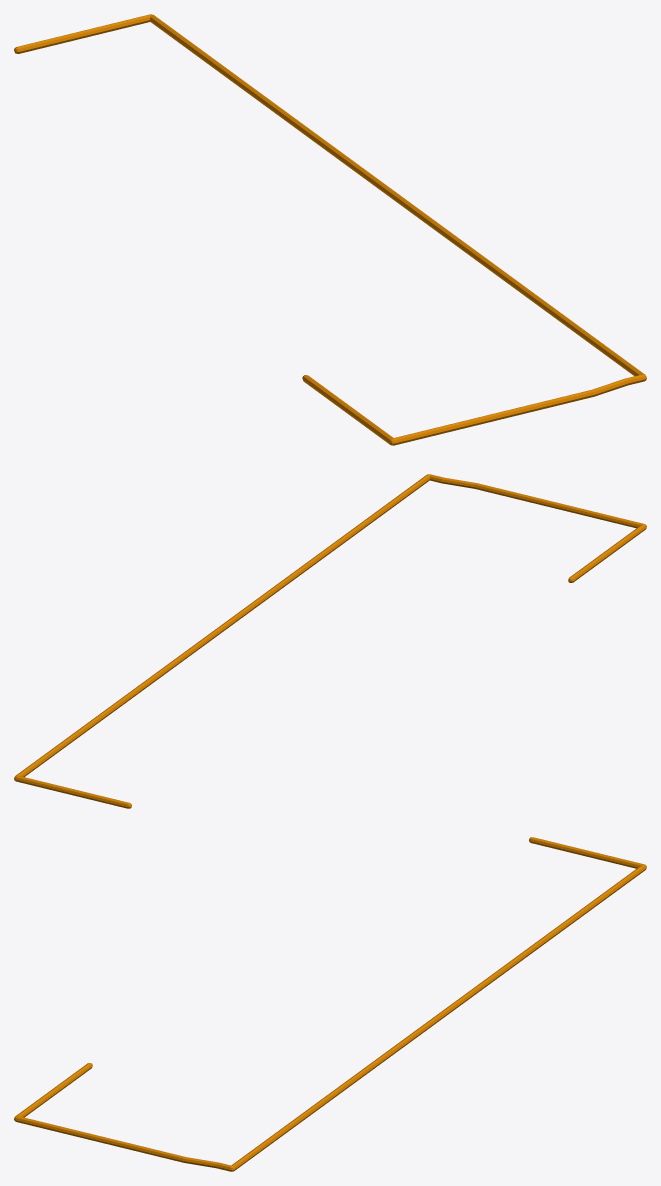
3 views of the same model, one above another, from view 1: azimuth 30°, elevation 25°; view 2: azimuth 150°, elevation 25°; view 3: azimuth 330°, elevation 25° (orthographic). The views are drawn at different scales.
Size of the model in its own units: 779 by 20 by 2586.
